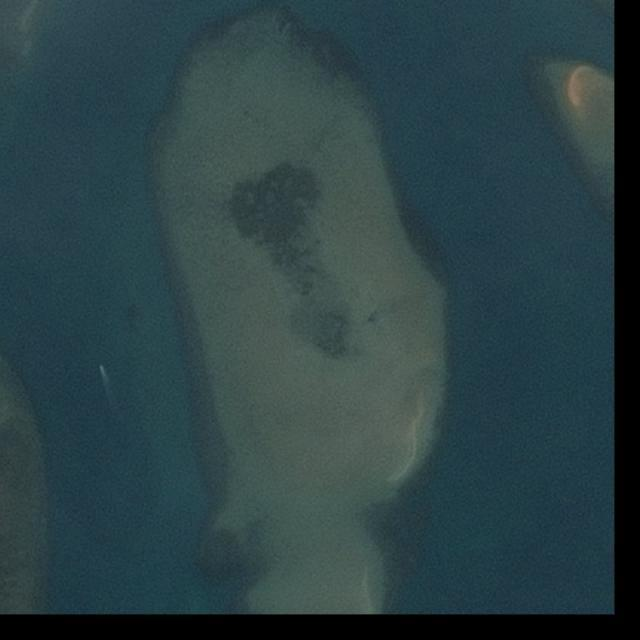ship: (99, 364, 104, 370)
